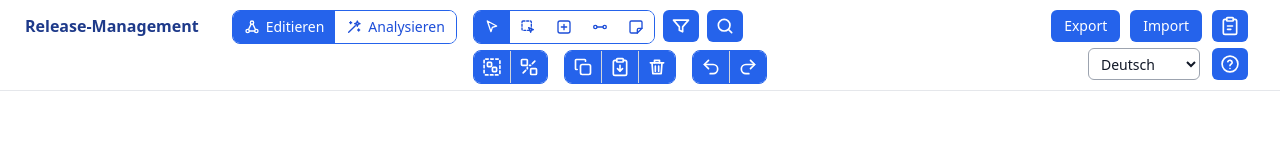
Test: Toolbar › file section › says that importing asks first and warns about unexported changes
The width and height of the screenshot is (1280, 160).
Hover over the button "Import" at (1166,26), box [1130,10,1202,42]
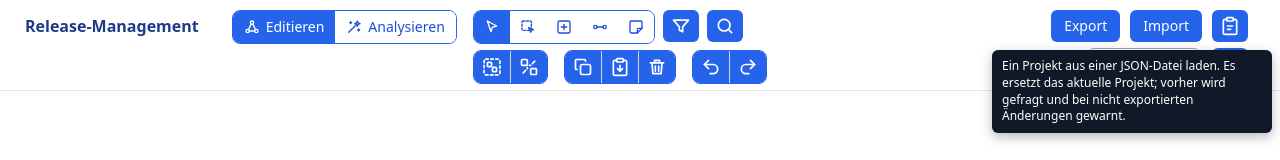
expect the tooltip shows "nicht exportierten Änderungen": met, box [1002,57,1236,124]
